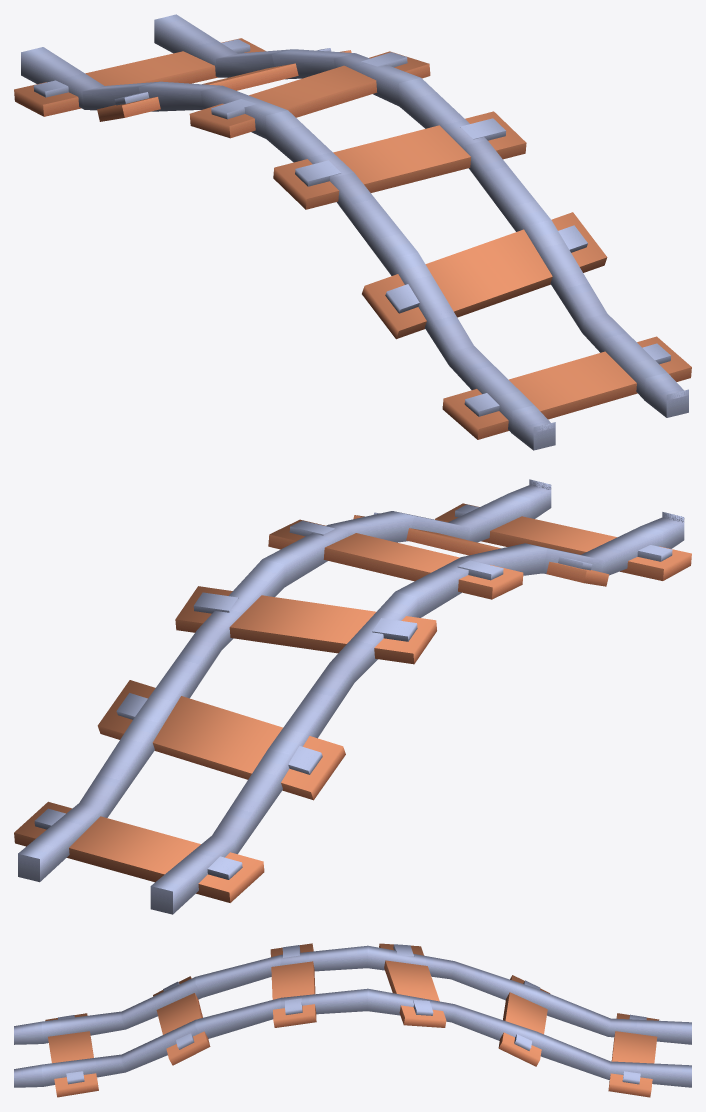
File: railroad-damaged-straight-bump-up.glb
The picture shows the model from 3 angles, top to bottom: view 1: azimuth 30°, elevation 25°; view 2: azimuth 150°, elevation 25°; view 3: azimuth 270°, elevation 25°; orthographic projection. The views are drawn at different scales.
Parts seen in each view (by area): view 1: railroad-damaged-straight-bump-up; view 2: railroad-damaged-straight-bump-up; view 3: railroad-damaged-straight-bump-up.
Boxes of the visible parts, x1,y1,x2,y2 form: railroad-damaged-straight-bump-up: [14, 14, 691, 450]; railroad-damaged-straight-bump-up: [14, 479, 691, 914]; railroad-damaged-straight-bump-up: [14, 943, 691, 1097].
Bounding box in the file's own units: 1.03 × 0.5987 × 4.
1 material, 1 textured.
